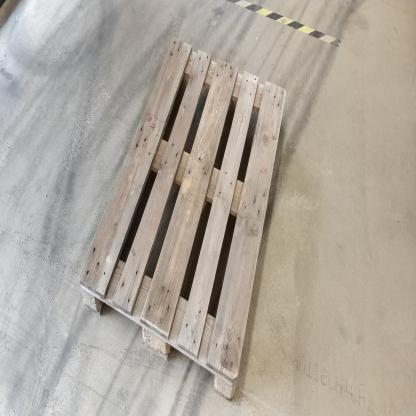BoxFace: (77, 31, 293, 405)
